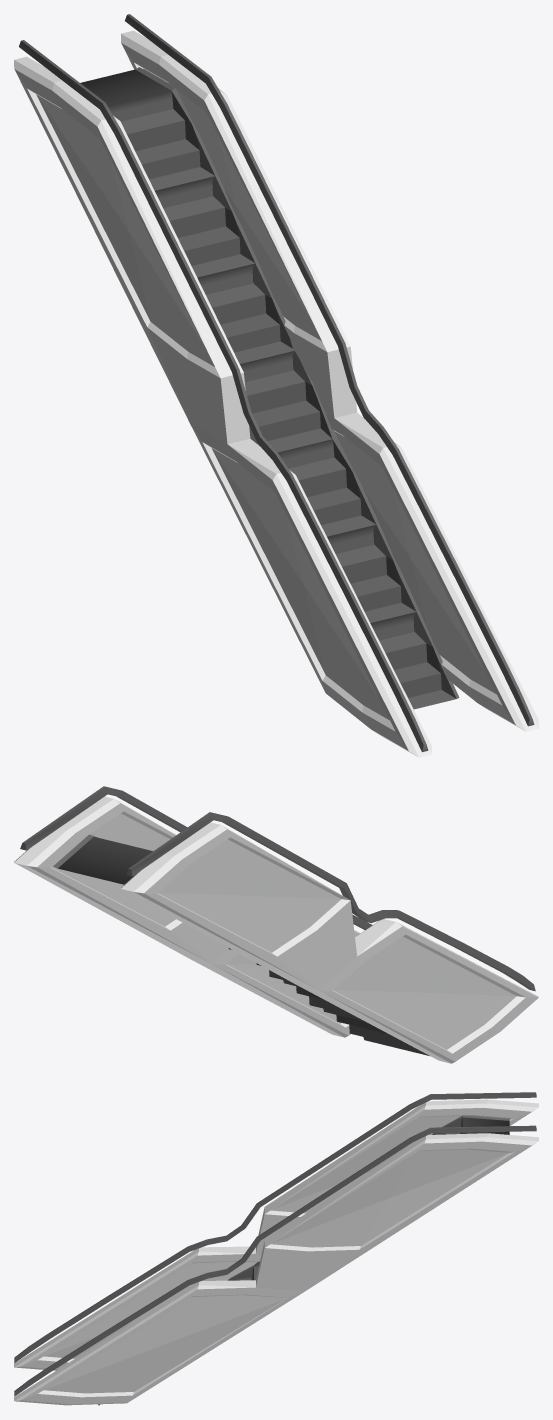
The model's file is SM_Hub_Stairs_01.fbx.
3 renders of one model, top to bottom at view 1: azimuth 30°, elevation 25°; view 2: azimuth 150°, elevation 25°; view 3: azimuth 270°, elevation 25°, orthographic. The views are drawn at different scales.
Visible parts, largest first — view 1: SM_Hub_Stairs_01; view 2: SM_Hub_Stairs_01; view 3: SM_Hub_Stairs_01.
Boxes of the visible parts, x1,y1,x2,y2 form: SM_Hub_Stairs_01: (14,14,538,757); SM_Hub_Stairs_01: (14,786,538,1063); SM_Hub_Stairs_01: (14,1092,538,1405).
Size of the model in its own units: 11.71 by 37.4 by 63.19.
